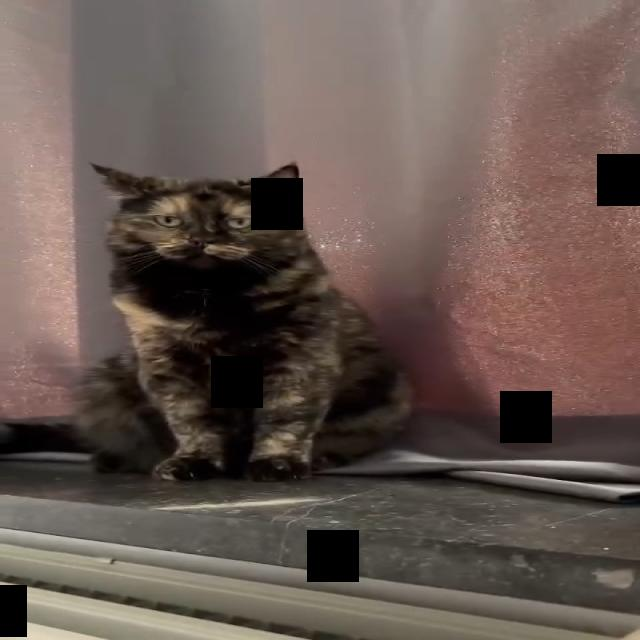authorized: (72, 160, 416, 482)
